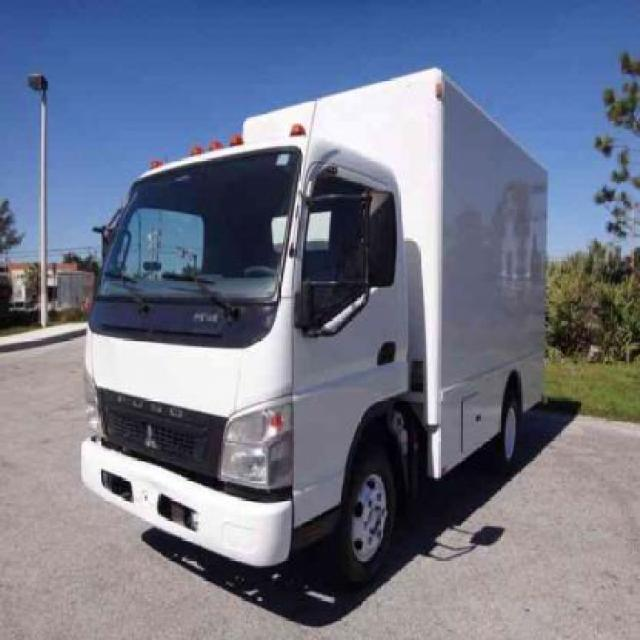truck: (79, 66, 548, 584)
